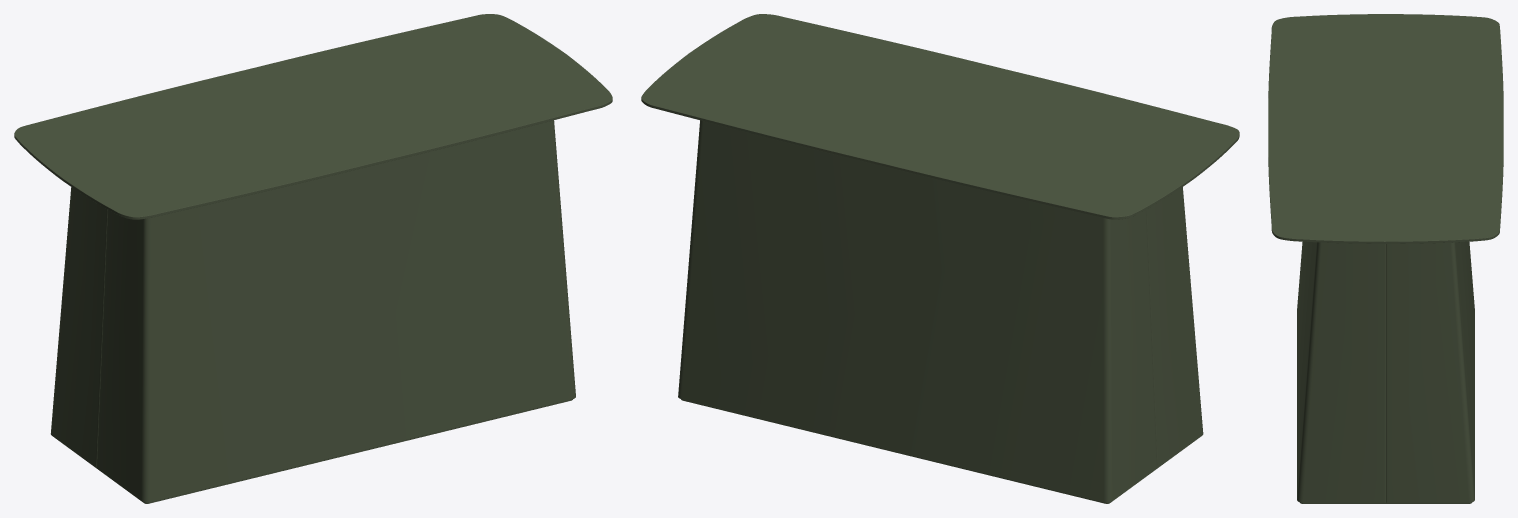
File: coffeetable-solid-rectangle.glb
3 renders of one model, left to right at view 1: azimuth 30°, elevation 25°; view 2: azimuth 150°, elevation 25°; view 3: azimuth 270°, elevation 25°, orthographic. The views are drawn at different scales.
Visible parts, largest first — view 1: rb_coffeetable_solid_rectangle_black; view 2: rb_coffeetable_solid_rectangle_black; view 3: rb_coffeetable_solid_rectangle_black.
Part boxes in pixels (left/top/right/bottom): rb_coffeetable_solid_rectangle_black: left=14, top=14, right=612, bottom=503; rb_coffeetable_solid_rectangle_black: left=641, top=14, right=1239, bottom=503; rb_coffeetable_solid_rectangle_black: left=1268, top=14, right=1503, bottom=503.
Bounding box in the file's own units: 0.7999 × 0.458 × 0.3497.
